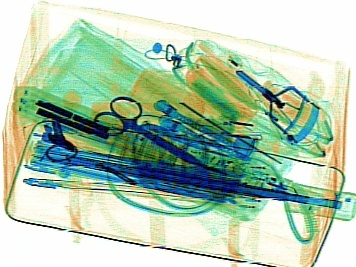scissors: (90, 94, 230, 179)
